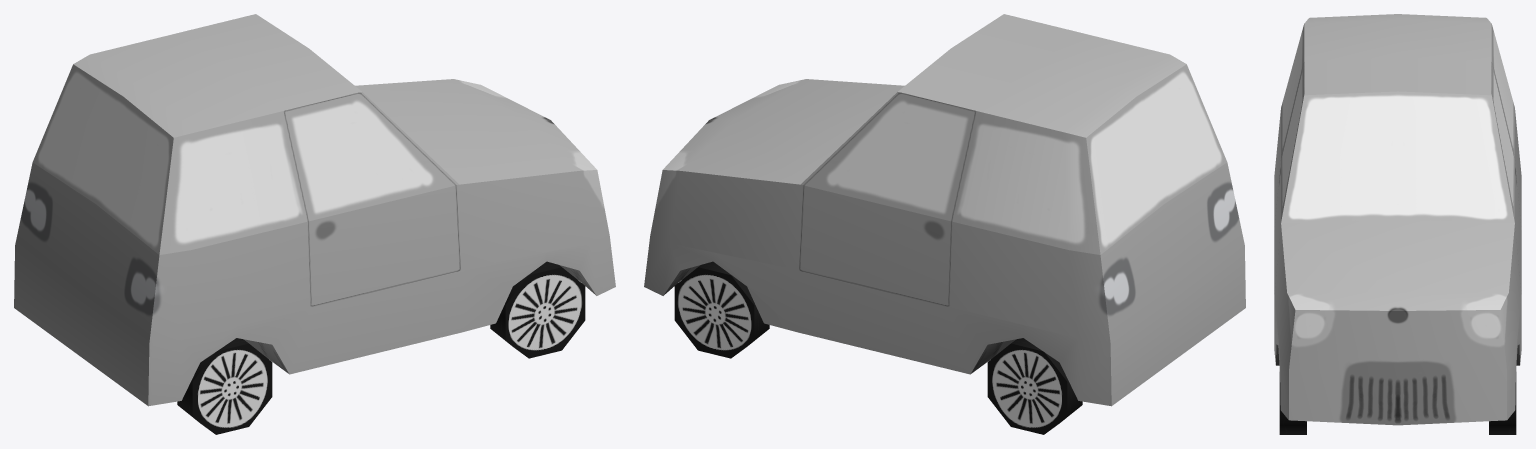
Rendered from kei0.fbx.
3 views of the same model, side by side, from view 1: azimuth 30°, elevation 25°; view 2: azimuth 150°, elevation 25°; view 3: azimuth 270°, elevation 25° (orthographic). The views are drawn at different scales.
Visible parts, largest first — view 1: Car #lod0; view 2: Car #lod0; view 3: Car #lod0.
Boxes of the visible parts, x1,y1,x2,y2 form: Car #lod0: (14,14,615,434); Car #lod0: (644,14,1245,434); Car #lod0: (1274,14,1521,434).
Size of the model in its own units: 340 by 170 by 200.
